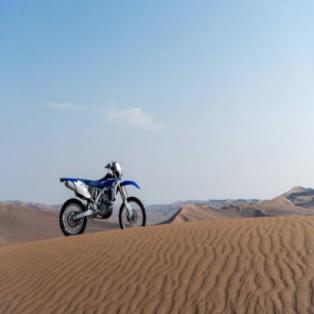Motocicleta: (54, 159, 149, 236)
